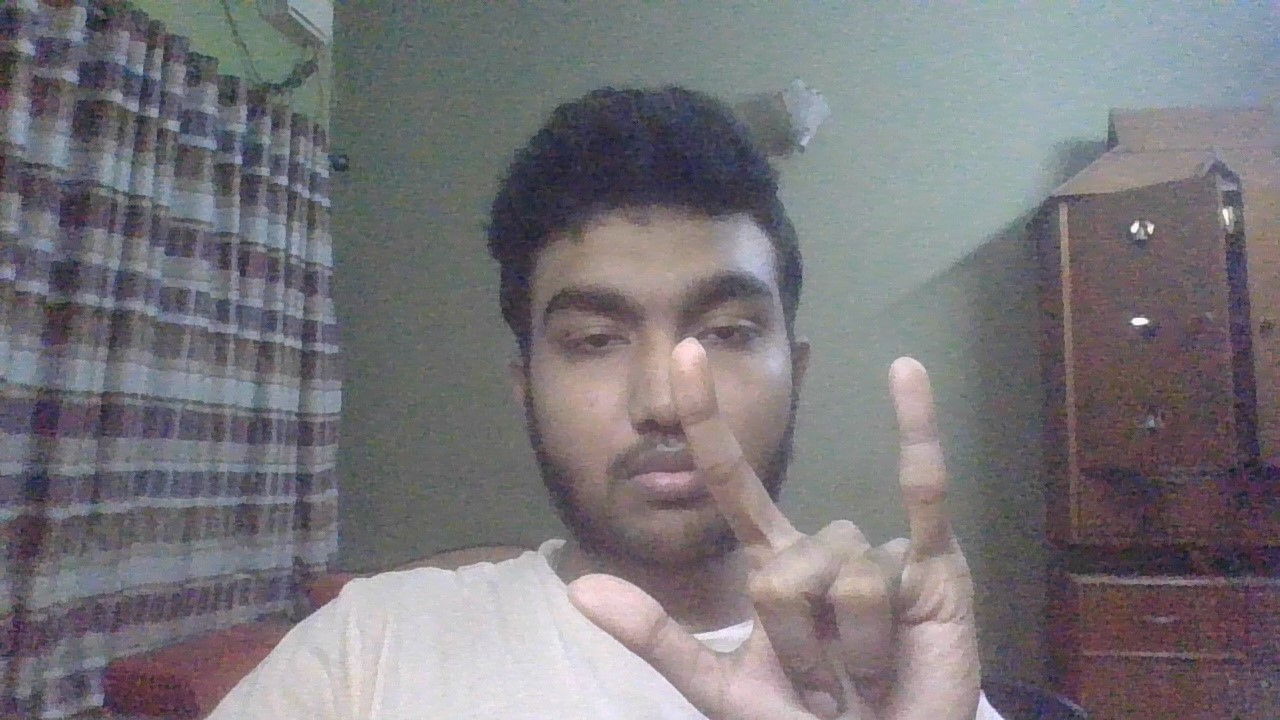I Love You: (557, 322, 1010, 720)
